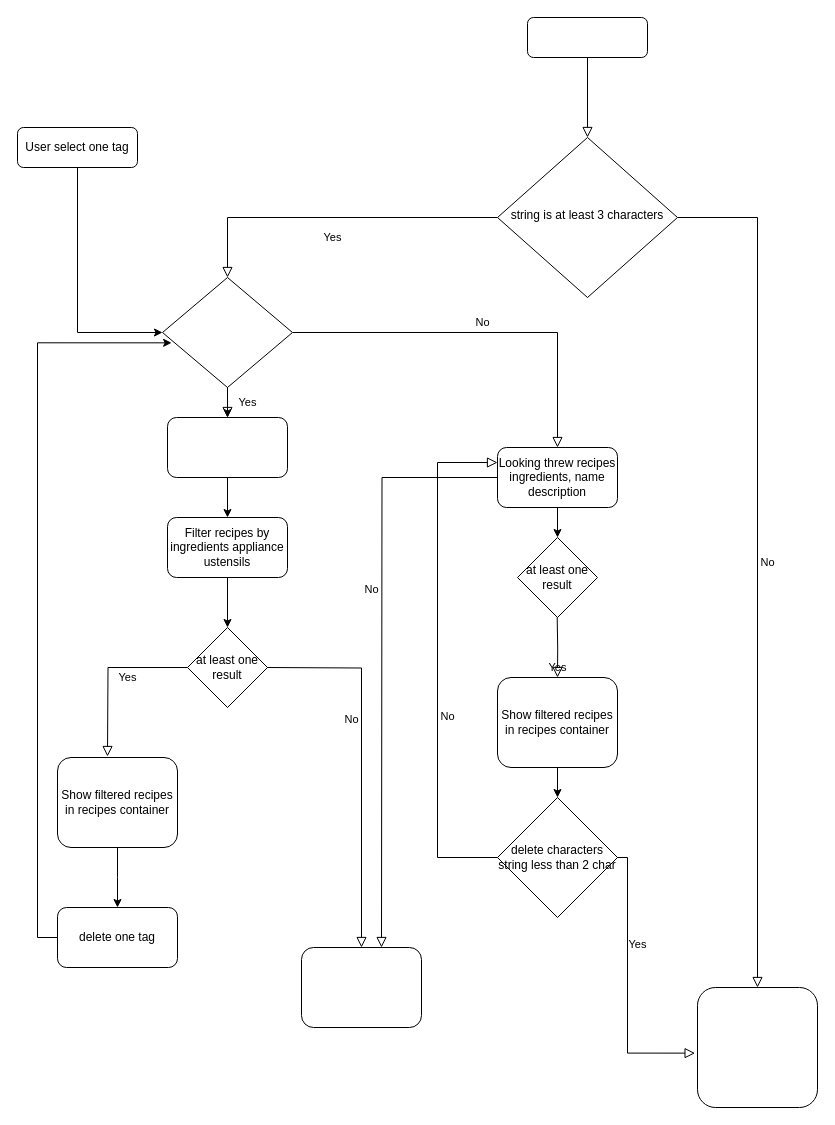
Some shapes in this 835 by 1125 pixel diagram are drawn without their labels. Each missing label, with the centre of its shape:
all recipes shown: (757,1047)
At least one tagTag has been selected: (227,332)
show message in recipe container : aucune recettes + name search: (361,987)
Tag show in tag container: (227,447)
User enter string in search input: (587,37)
